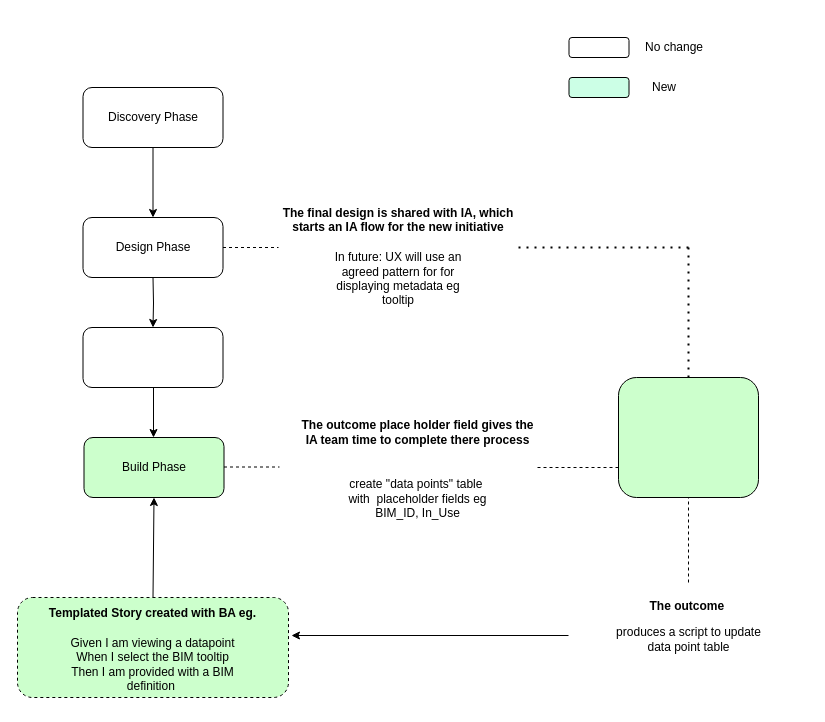
Image size: 825x722. Some labels were removed from this diagram. The centre of each missing label's shape, as x and y in pixels:
"IA process" belongs at (x=688, y=437).
"Sprint 0" belongs at (x=152, y=357).
